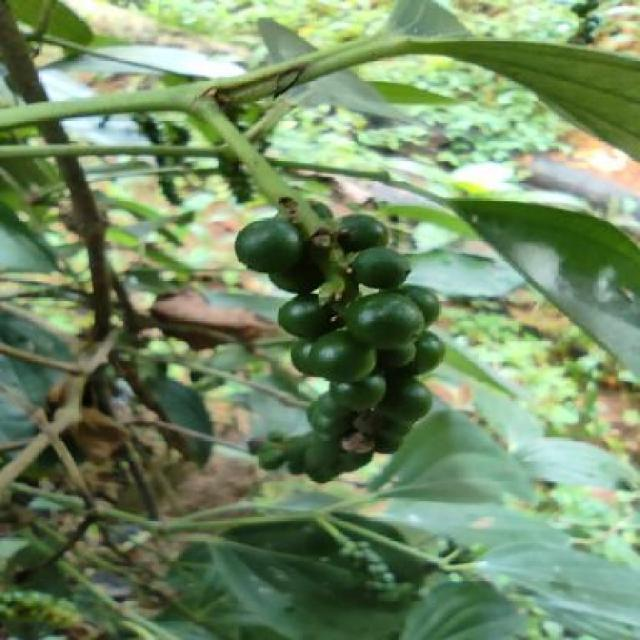UNRIPE: (232, 202, 440, 484), (126, 115, 186, 204), (2, 594, 88, 626), (341, 545, 394, 588), (567, 2, 602, 44), (215, 163, 254, 200)
